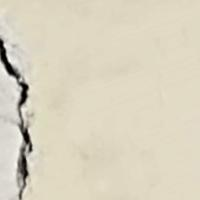crack: (0, 29, 46, 199)
